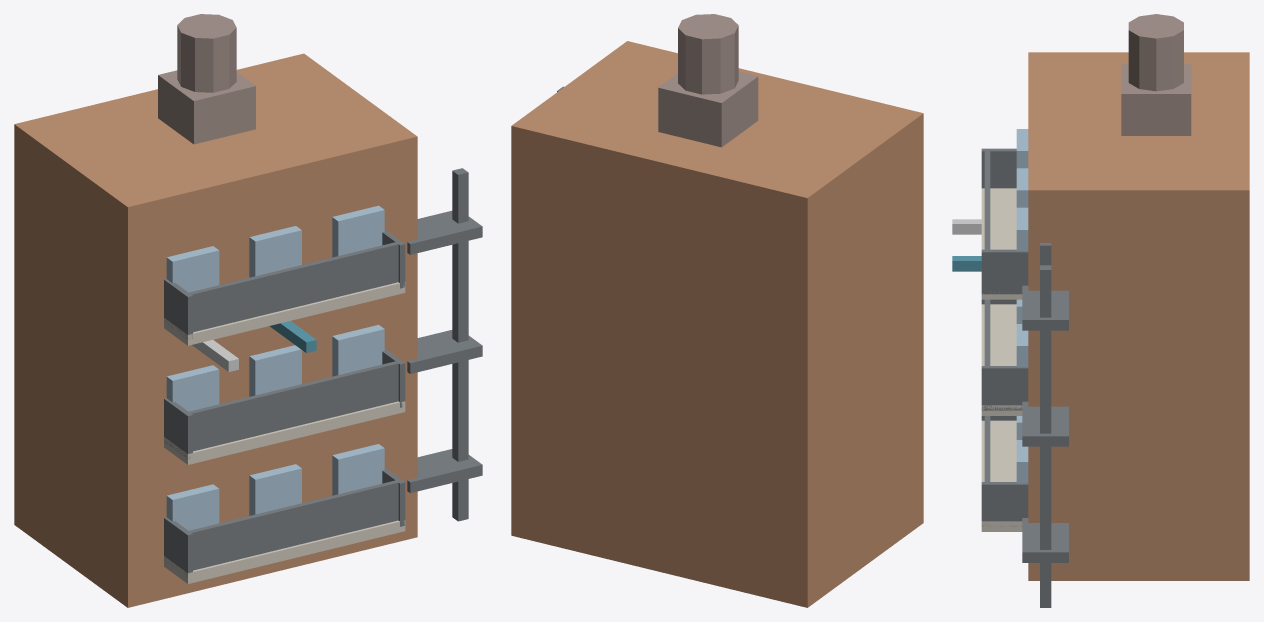
The model's file is apartment_building.glb.
3 views of the same model, side by side, from view 1: azimuth 30°, elevation 25°; view 2: azimuth 150°, elevation 25°; view 3: azimuth 270°, elevation 25° (orthographic). The views are drawn at different scales.
Visible parts, largest first — view 1: world; view 2: world; view 3: world.
Part boxes in pixels (<box>): world: <box>14,14,482,607</box>; world: <box>511,14,923,607</box>; world: <box>952,14,1249,607</box>.
Size of the model in its own units: 0.7391 by 1 by 0.5543.
